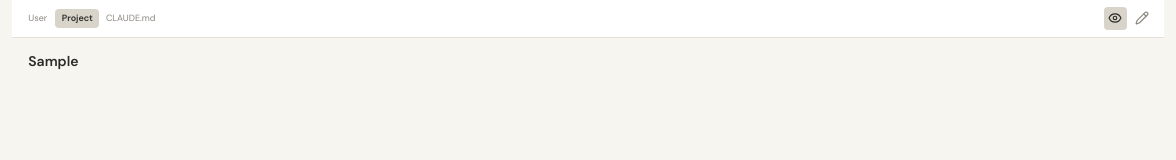
MemoryEditor › enables save button when content is modified
Expected: the heading "Sample" is shown, [28,52,79,70]
Click the button named "Edit mode" at [1142, 18], box [1130,6,1154,30]
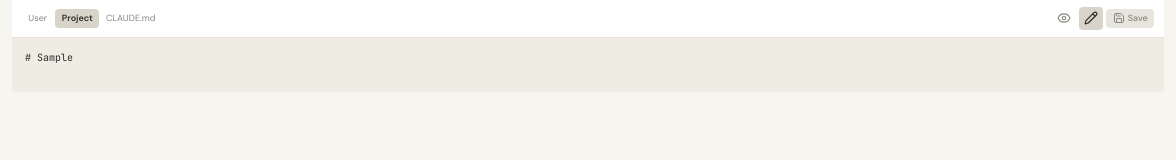
Now the text box named "CLAUDE.md editor" is shown
Replace the text in the text box named "CLAUDE.md editor" with "# Modified" at [588, 65], box [12,38,1164,92]
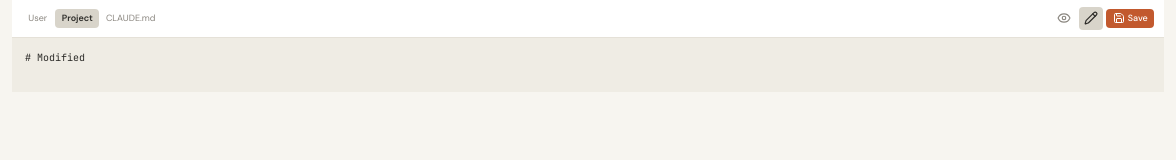
Now the button with aria-label "Save changes" is enabled, box [1106,9,1154,28]
